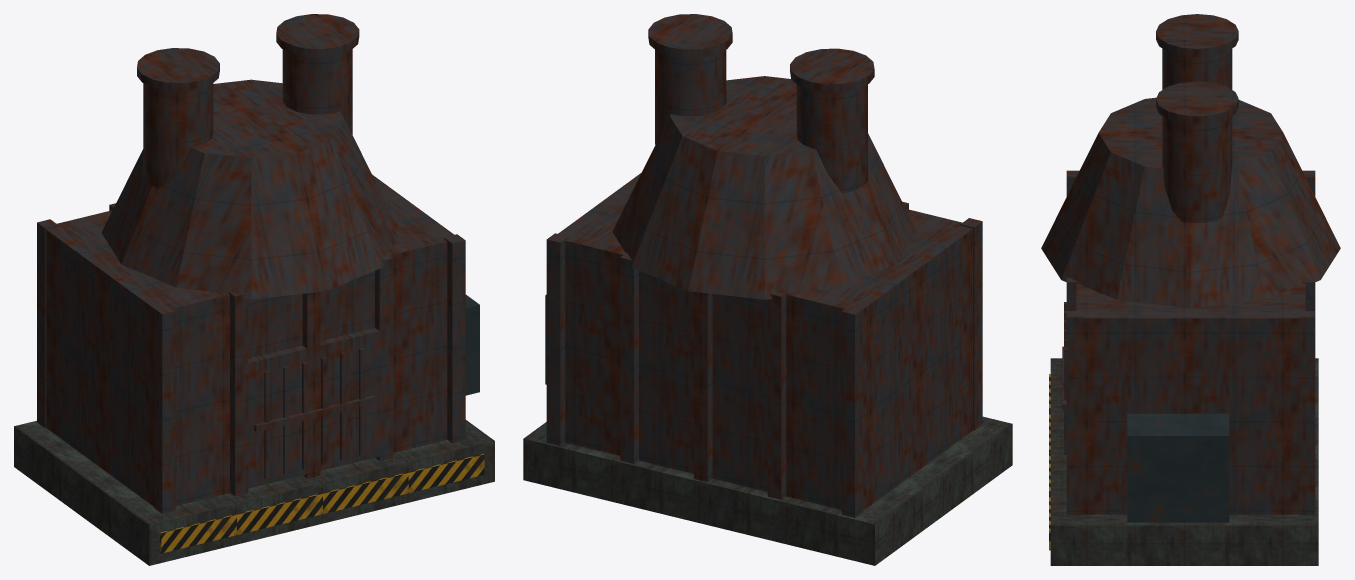
Rendered from Prop_BlastFurnace.fbx.
3 renders of one model, left to right at view 1: azimuth 30°, elevation 25°; view 2: azimuth 150°, elevation 25°; view 3: azimuth 270°, elevation 25°, orthographic. The views are drawn at different scales.
Parts seen in each view (by area): view 1: Prop_BlastFurnace; view 2: Prop_BlastFurnace; view 3: Prop_BlastFurnace.
Boxes of the visible parts, left/top/right/bottom form: Prop_BlastFurnace: left=14, top=14, right=494, bottom=565; Prop_BlastFurnace: left=523, top=14, right=1012, bottom=565; Prop_BlastFurnace: left=1041, top=14, right=1340, bottom=565.
Bounding box in the file's own units: 6.62 × 7.22 × 4.7.
